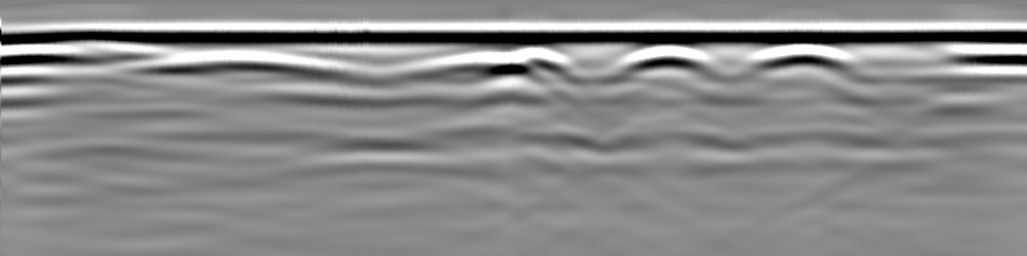pipe: (41, 28, 161, 58)
steel: (165, 49, 341, 77), (426, 52, 581, 79), (744, 46, 857, 71), (617, 47, 716, 73)
